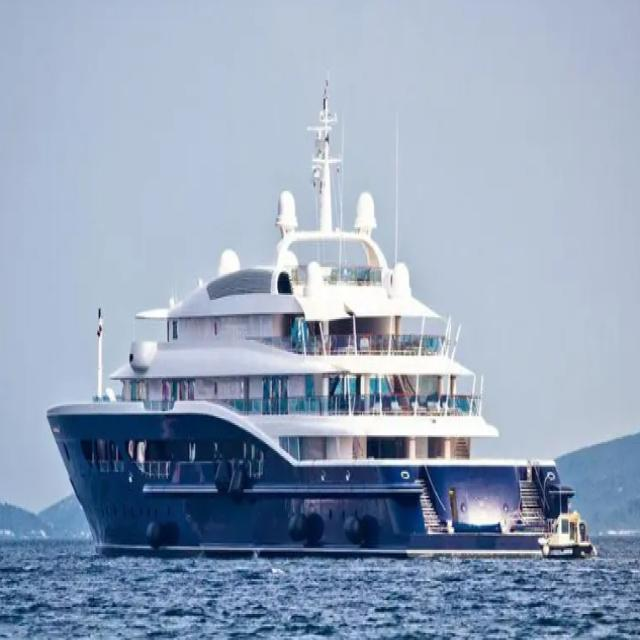passenger ship: (47, 211, 578, 567)
